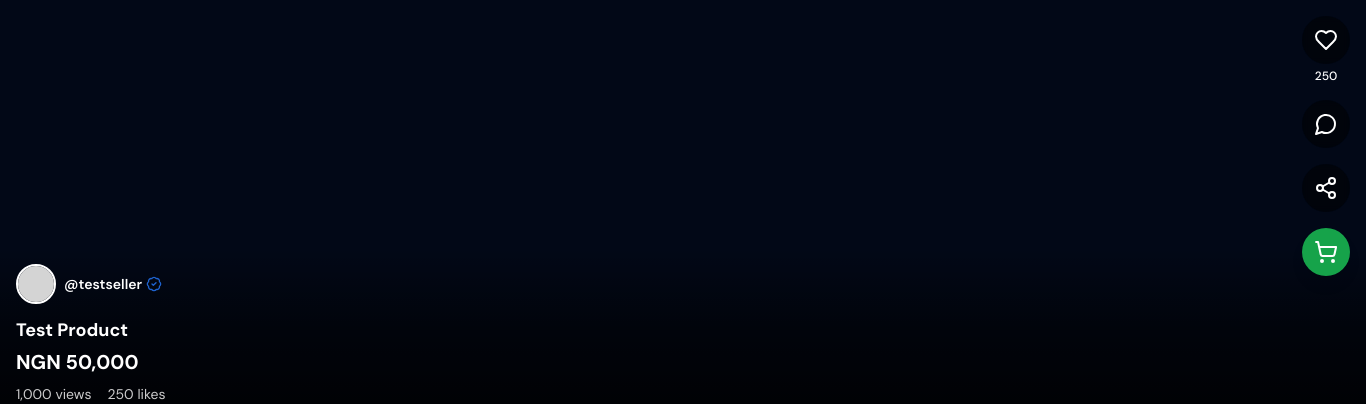
Test: VideoOverlay Component › toggles like state when like button is clicked
Click the button named "Like" at (1326, 50), box [1302,16,1350,84]
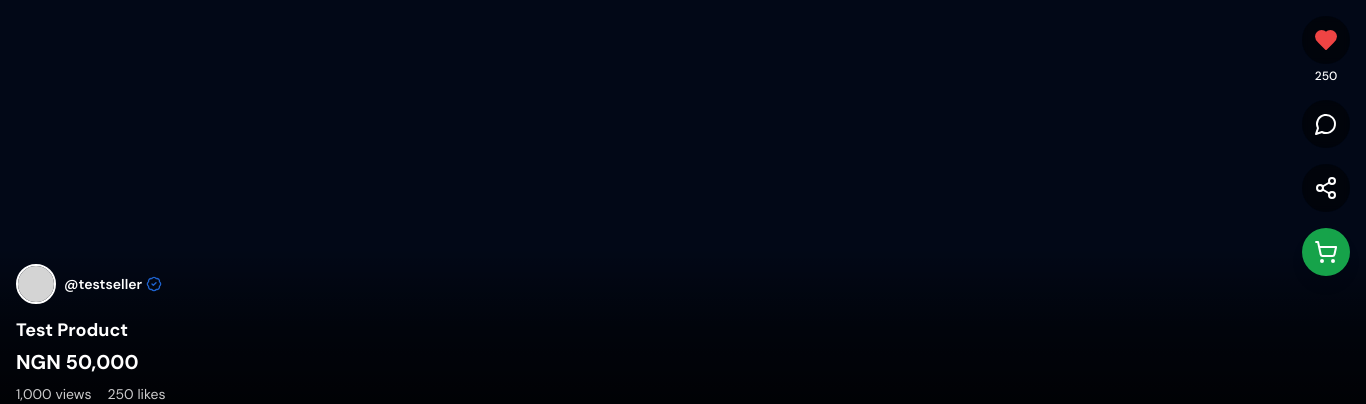
Now the button named "Unlike" is shown, box [1302,16,1350,84]
